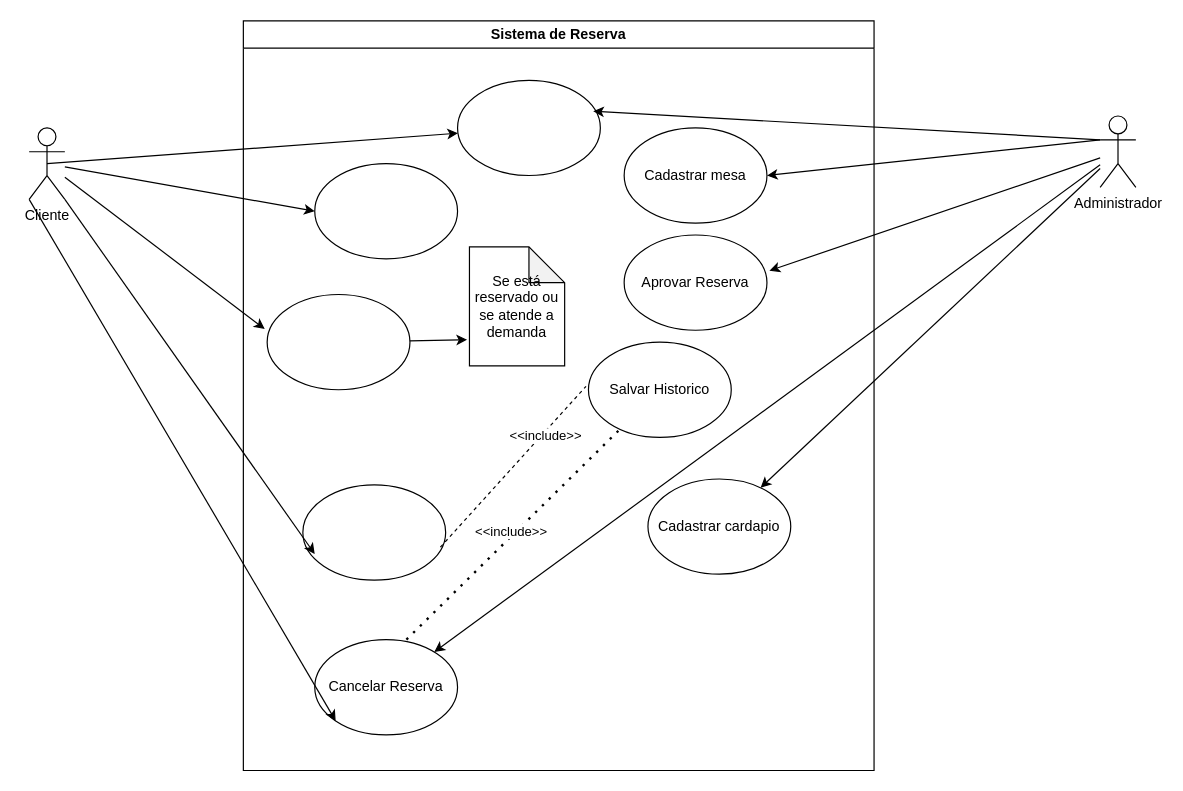
The diagram is 1183 pixels wide and 791 high, and some of its shapes have lost their labels. Each missing label, with the centre of its shape:
"Consultar cardapio" belongs at point (386, 210).
"consultar disponibilidade de mesa" belongs at point (338, 341).
"Criar Conta" belongs at point (528, 127).
"Realizar a reserva" belongs at point (374, 532).
